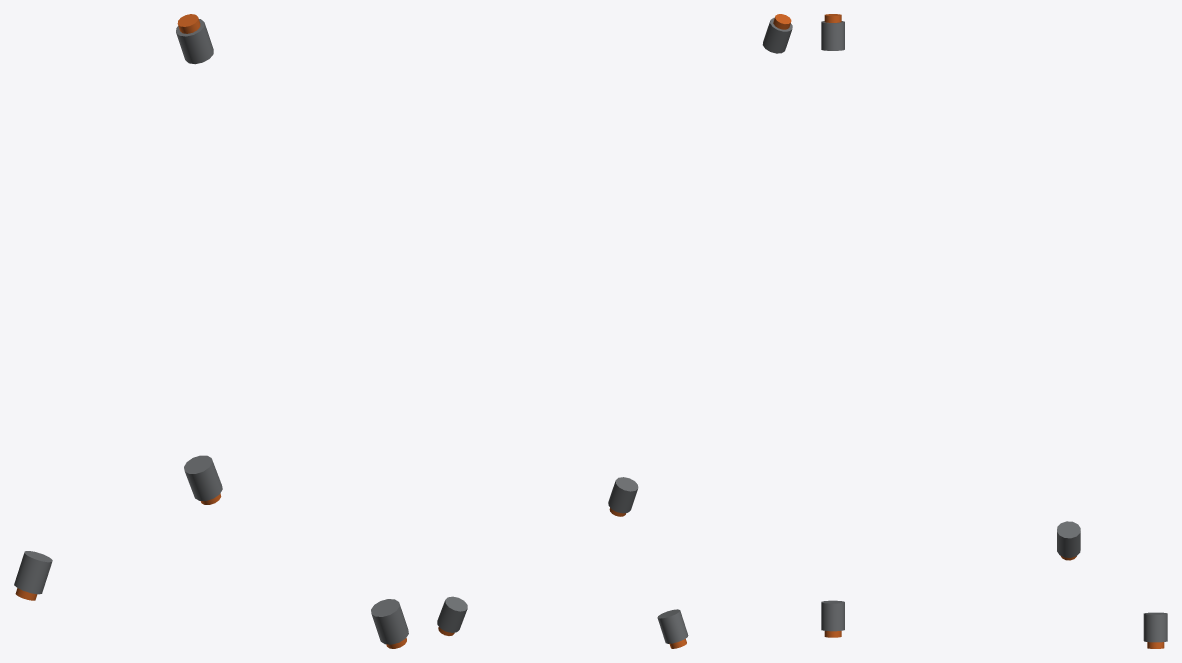
File: u73l_sensors.obj
The picture shows the model from 3 angles, left to right: view 1: azimuth 30°, elevation 25°; view 2: azimuth 150°, elevation 25°; view 3: azimuth 270°, elevation 25°; orthographic projection. The views are drawn at different scales.
Visible parts, largest first — view 1: u73l_sensors; view 2: u73l_sensors; view 3: u73l_sensors.
Boxes of the visible parts, x1,y1,x2,y2 form: u73l_sensors: (14, 14, 408, 648); u73l_sensors: (437, 14, 792, 648); u73l_sensors: (821, 14, 1167, 648).
Bounding box in the file's own units: 1.38 × 3.49 × 1.99.
